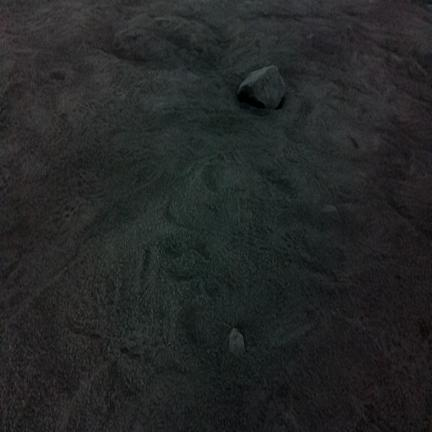Rock: (238, 66, 285, 109), (229, 328, 245, 357)
